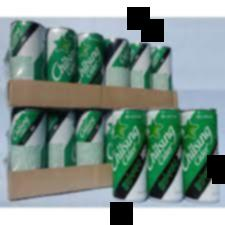chilsungcider_zero: (110, 109, 150, 203), (181, 109, 220, 205)
